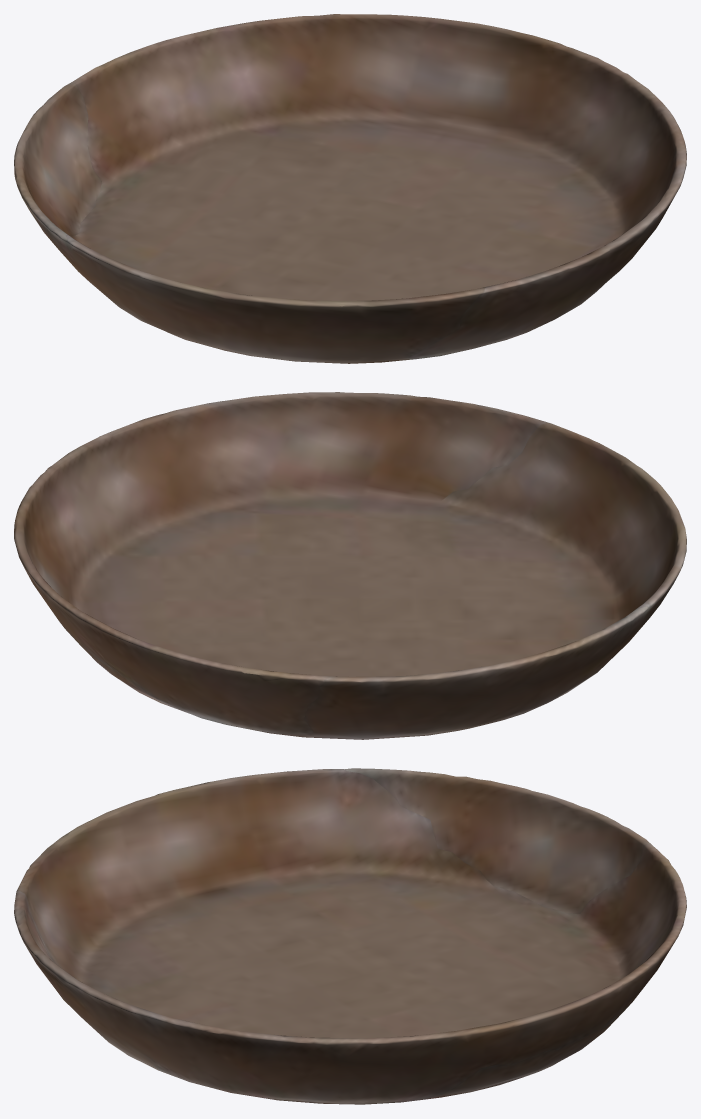
The model's file is gso_ecoforms_plant_saucer_s17mocha.glb.
3 renders of one model, top to bottom at view 1: azimuth 30°, elevation 25°; view 2: azimuth 150°, elevation 25°; view 3: azimuth 270°, elevation 25°, orthographic.
Parts seen in each view (by area): view 1: z-up-to-y-up; view 2: z-up-to-y-up; view 3: z-up-to-y-up.
Part boxes in pixels (x1=…): z-up-to-y-up: x1=14, y1=14, x2=686, y2=363; z-up-to-y-up: x1=14, y1=392, x2=686, y2=739; z-up-to-y-up: x1=14, y1=768, x2=686, y2=1104.
Bounding box in the file's own units: 0.1768 × 0.0305 × 0.1769.
Materials: 1 (1 with a texture image).
